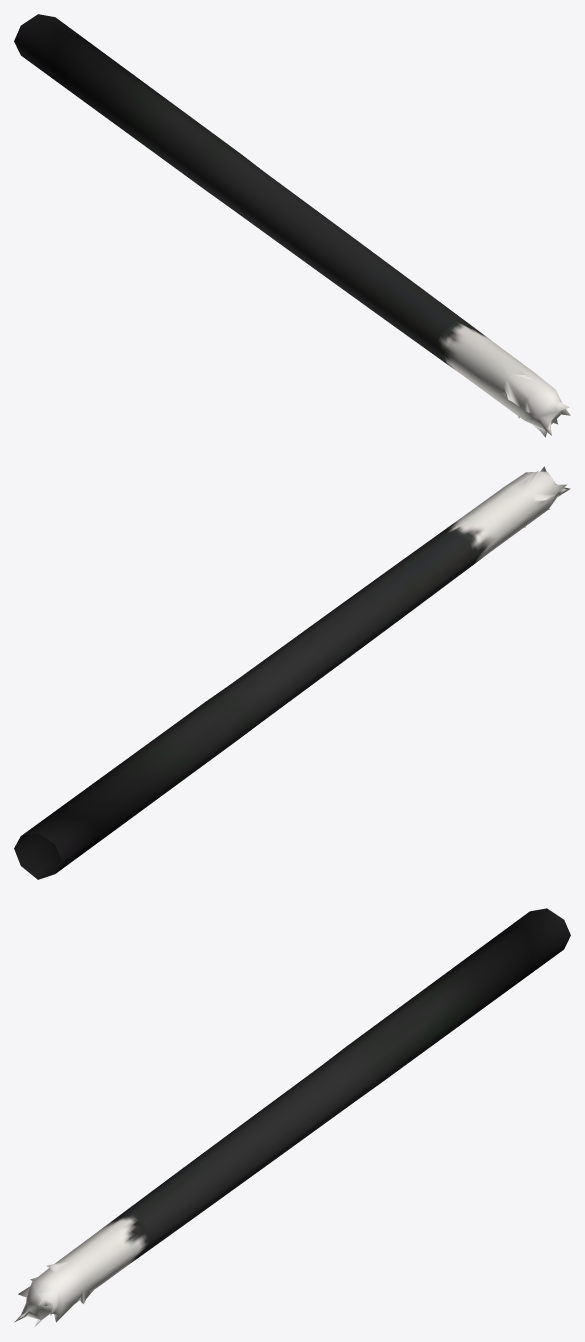
Rendered from exhaust_1.fbx.
The picture shows the model from 3 angles, top to bottom: view 1: azimuth 30°, elevation 25°; view 2: azimuth 150°, elevation 25°; view 3: azimuth 330°, elevation 25°; orthographic projection.
Visible parts, largest first — view 1: exhaust_1; view 2: exhaust_1; view 3: exhaust_1.
Boxes of the visible parts, x1=… form: exhaust_1: x1=14, y1=14, x2=570, y2=437; exhaust_1: x1=14, y1=466, x2=570, y2=879; exhaust_1: x1=14, y1=908, x2=570, y2=1326.
Bounding box in the file's own units: 0.0926 × 0.0919 × 1.72.
